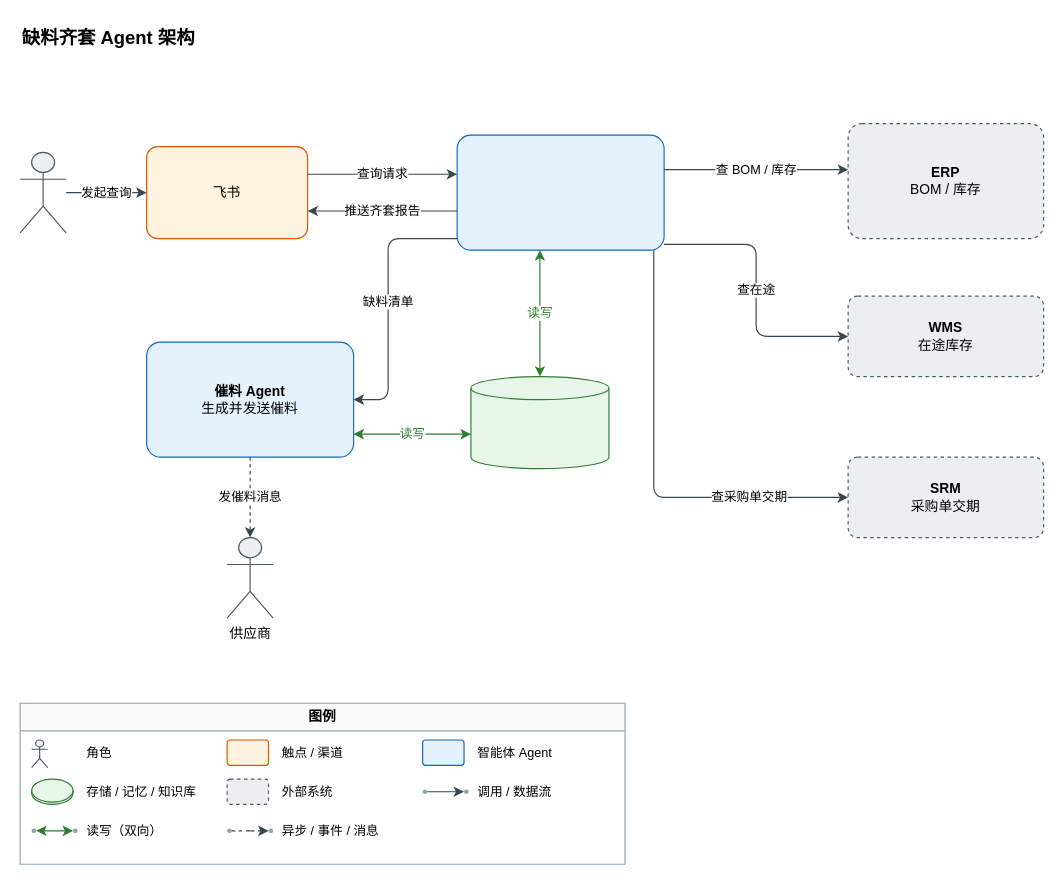
Image size: 1064x884. Some labels were removed from this diagram. The shapes that lost their labels are listed below. From the top down, each one's box as (x1, y1, x2, y2) in pixels, then its label:
(19, 151, 66, 233): 业务员
(456, 134, 664, 250): 齐套 Agent 齐套率计算
(470, 375, 609, 469): 共享记忆 物料历史催料记录
